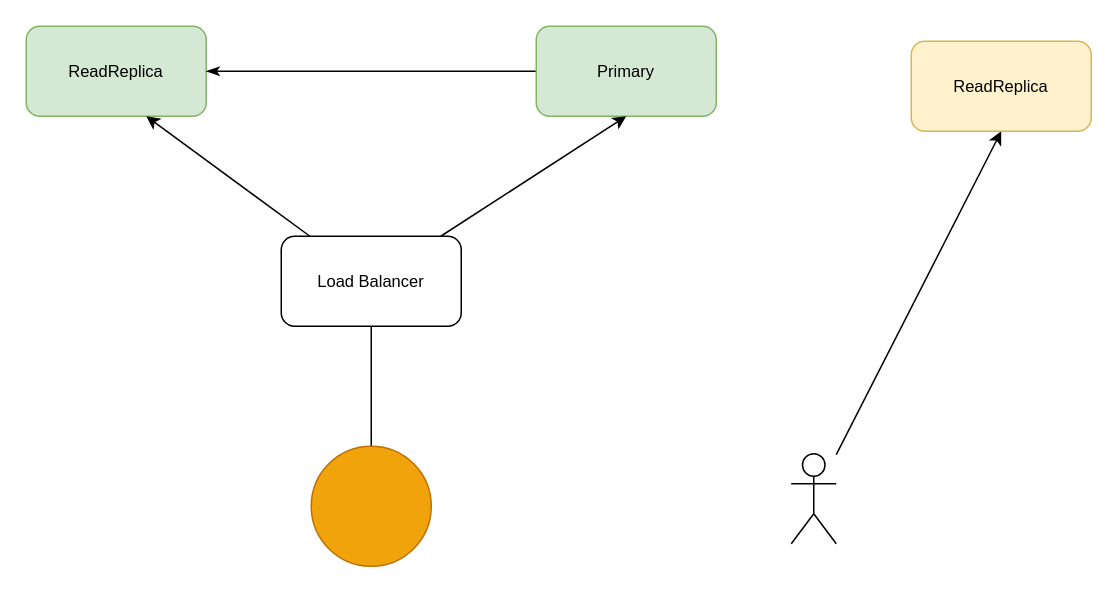
This 1118x600 diagram has some shape labels left out. Each missing label, with the centre of its shape:
Actor: the point at 813,498
APP: the point at 370,505
